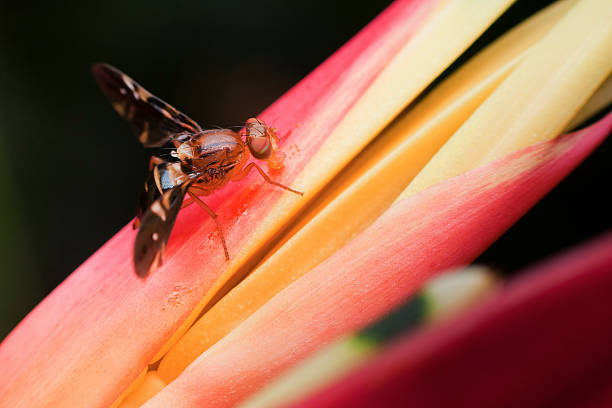Fruit fly: (86, 67, 314, 275)
